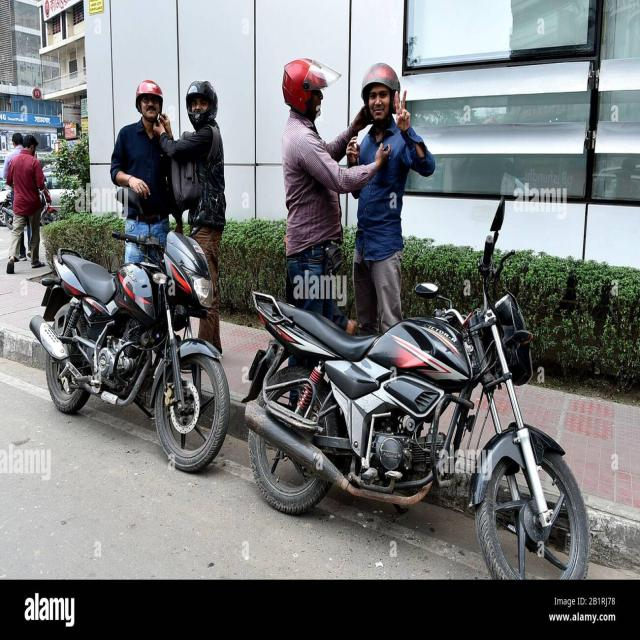bike: (242, 261, 589, 575), (36, 230, 229, 463)
